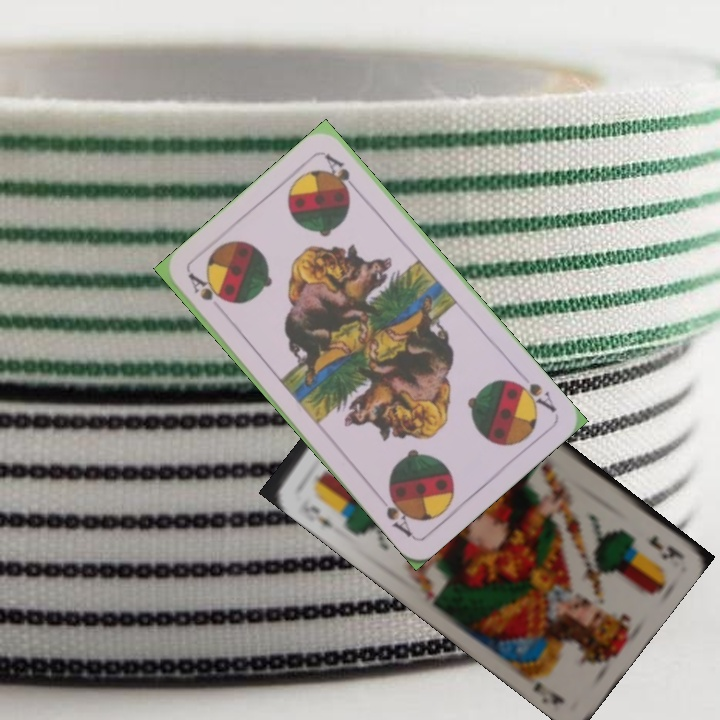EK: (298, 493, 339, 533), (644, 531, 682, 562)
SA: (507, 376, 560, 416), (184, 269, 226, 305)
